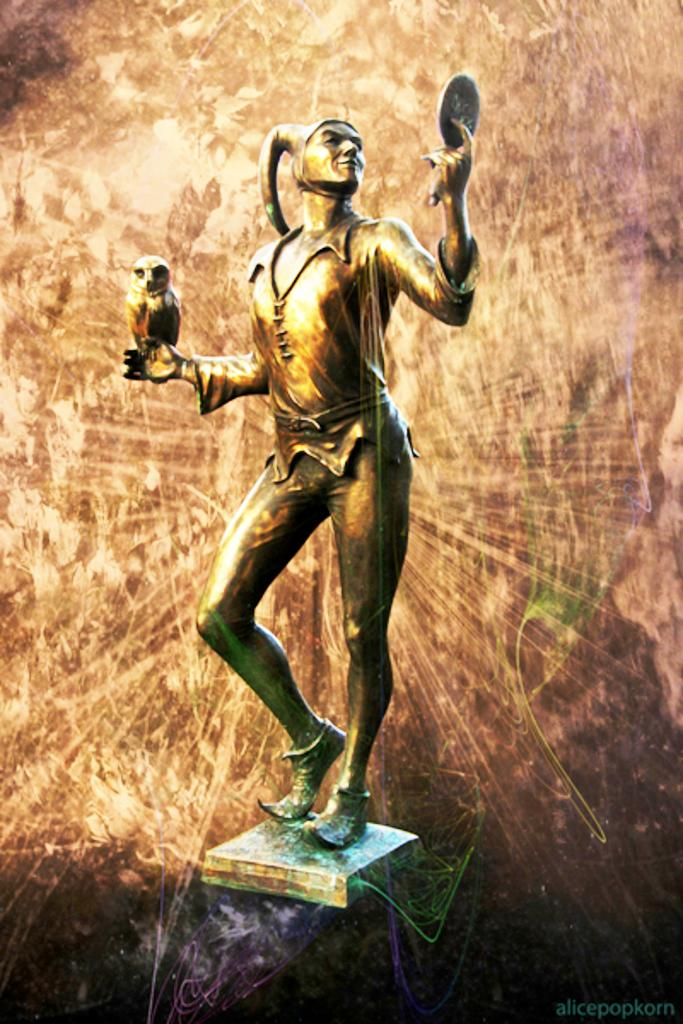Owl: (123, 256, 183, 353)
